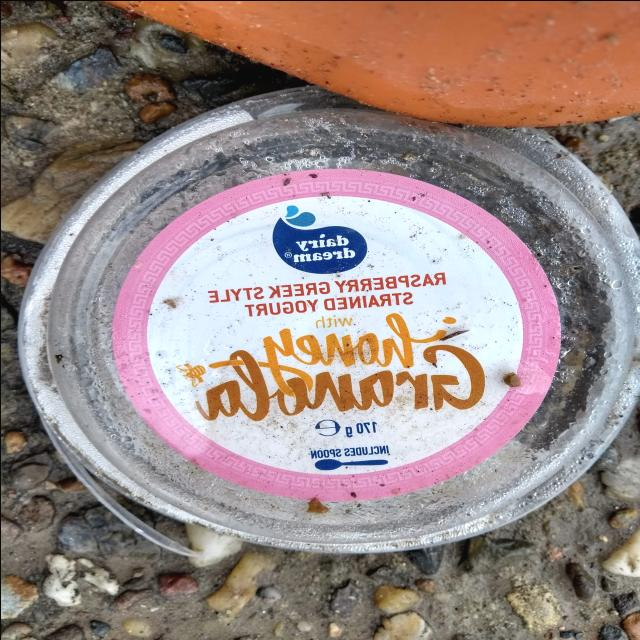Plastic lid: (16, 84, 640, 556)
